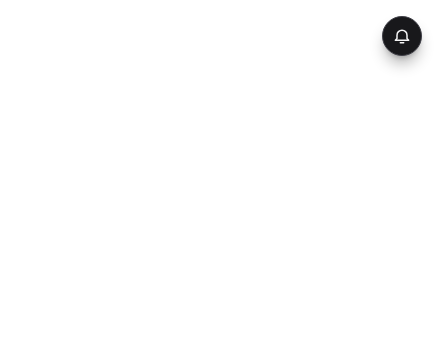
campana de notificaciones › permite reintentar después de un error
Click the button named "Notificaciones," at [402, 36], box [382,16,422,56]
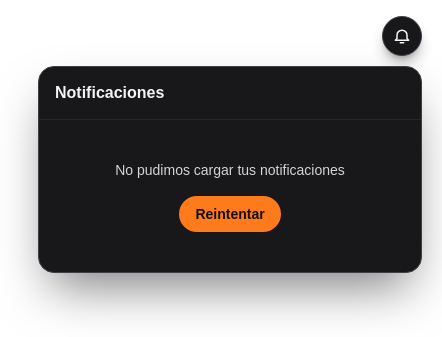
expect the text "No pudimos cargar tus notificaciones" is shown: met, box [115,160,345,180]
Click the button "Reintentar" at [230, 214], box [179,196,281,232]
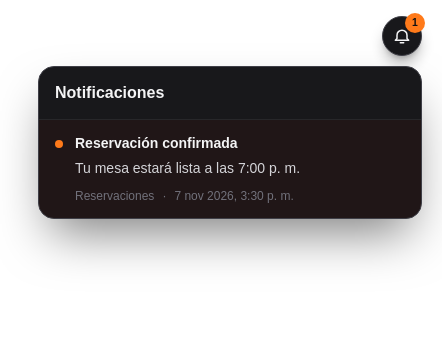
expect the text "Reservación confirmada" is shown: met, box [75,135,238,151]
